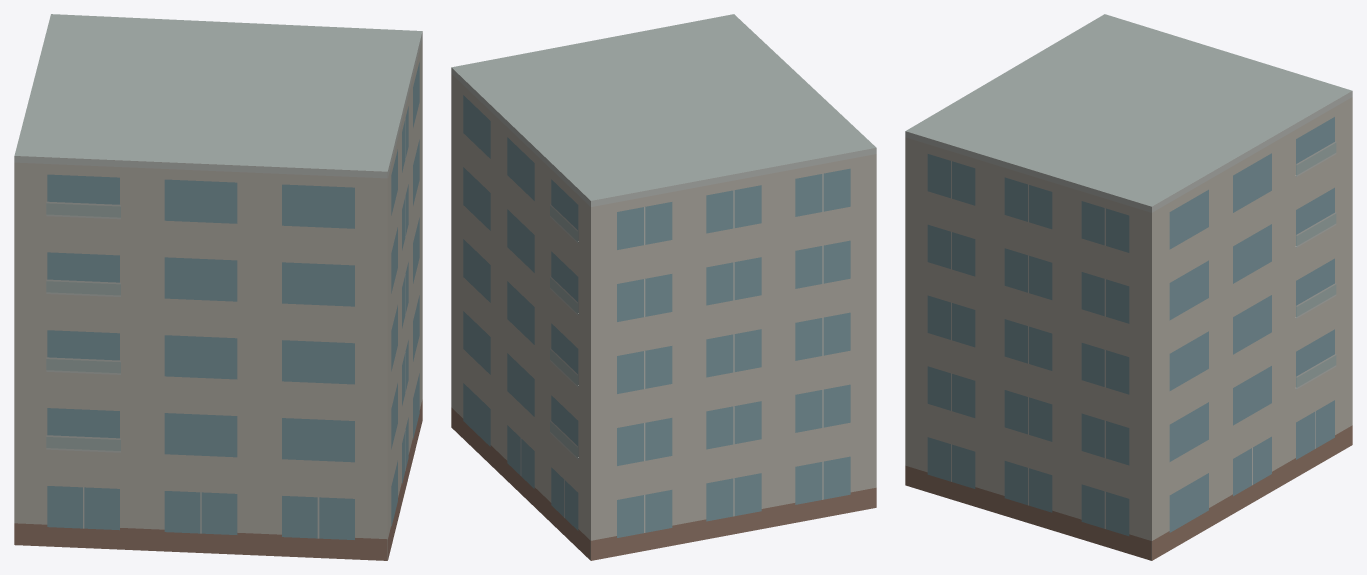
The model's file is survey-upis-32747261.glb.
3 renders of one model, left to right at view 1: azimuth 30°, elevation 25°; view 2: azimuth 150°, elevation 25°; view 3: azimuth 270°, elevation 25°, orthographic. The views are drawn at different scales.
Visible parts, largest first — view 1: survey-upis-32747261.tmp; view 2: survey-upis-32747261.tmp; view 3: survey-upis-32747261.tmp.
Part boxes in pixels (<box>): survey-upis-32747261.tmp: <box>14,14,422,560</box>; survey-upis-32747261.tmp: <box>451,14,876,560</box>; survey-upis-32747261.tmp: <box>905,14,1352,560</box>.
Bounding box in the file's own units: 16.46 × 14.1 × 16.15.
